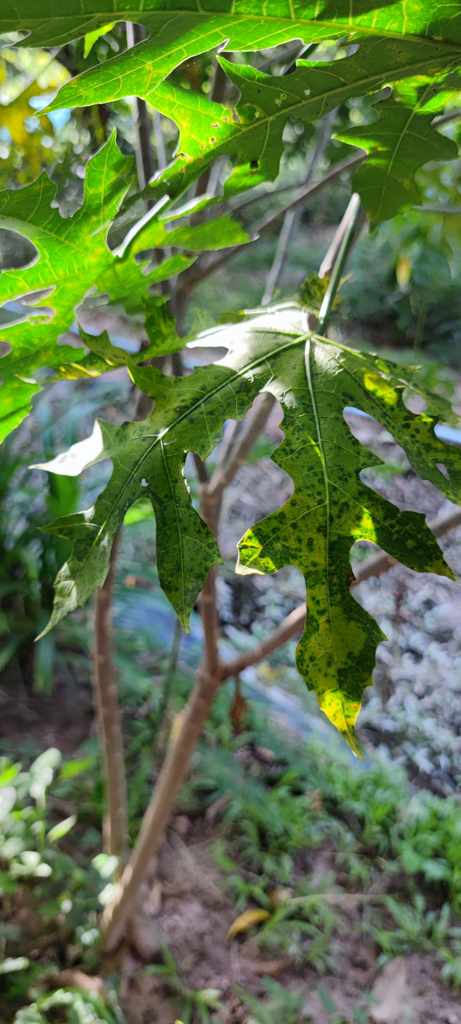Alternaria brassicicola: (243, 370, 450, 734), (41, 363, 228, 626), (161, 96, 260, 175)
